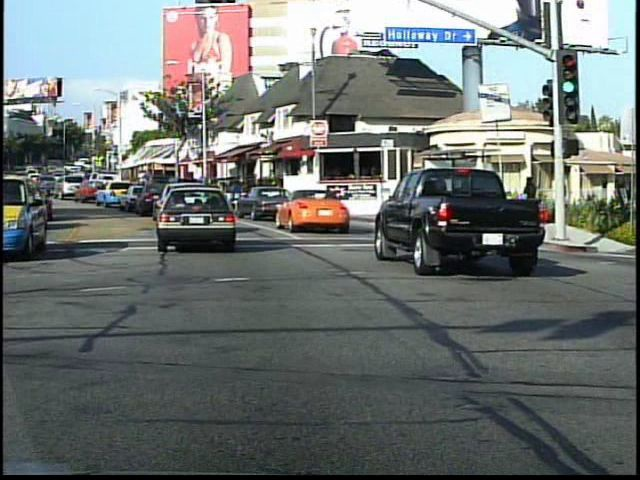person: (605, 191, 627, 260)
